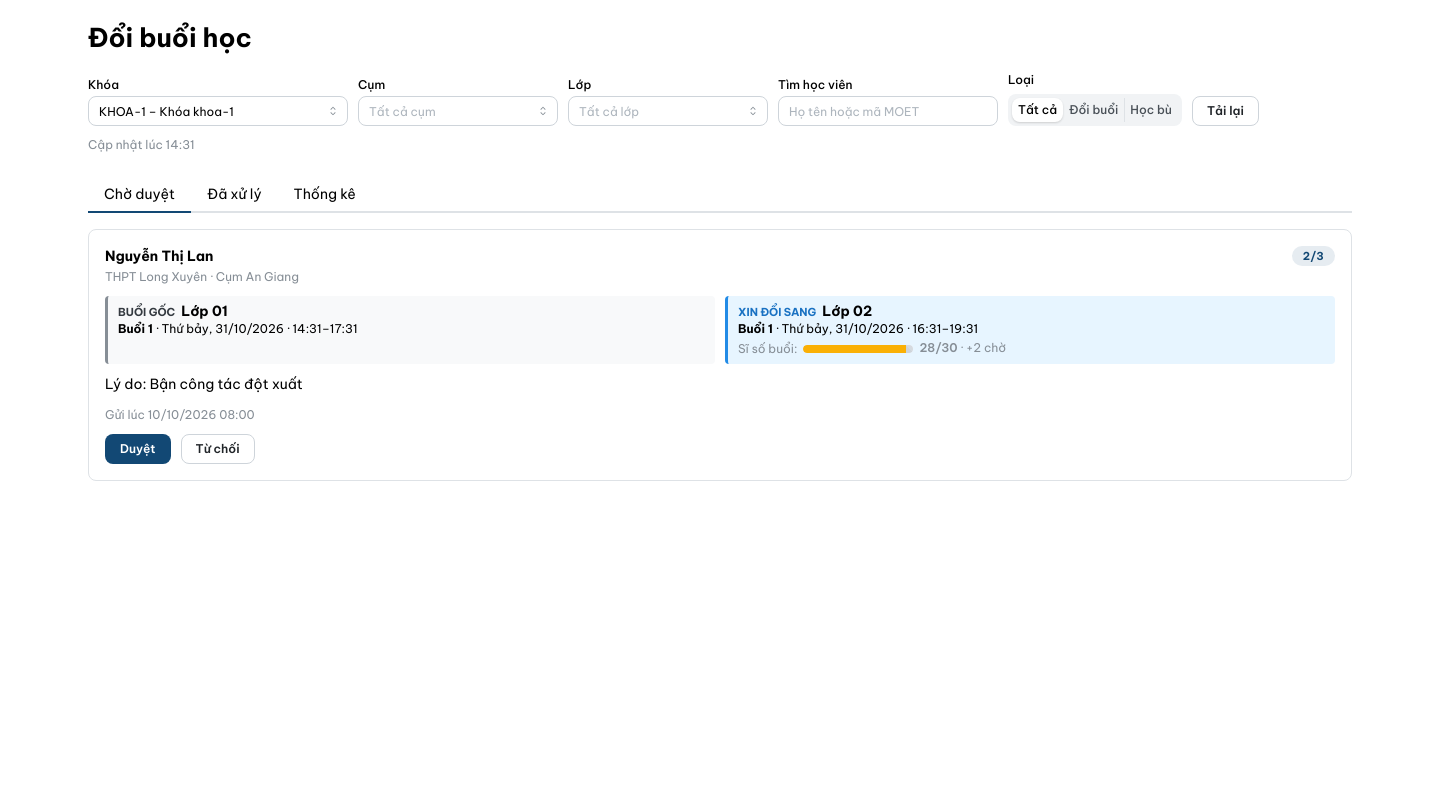
Test case: Màn duyệt đổi buổi › duyệt gửi lich_chot_id + ghi chú; cảnh báo hiện thành thông báo
Click the button "Duyệt" at (138, 449), box [105, 434, 171, 464]
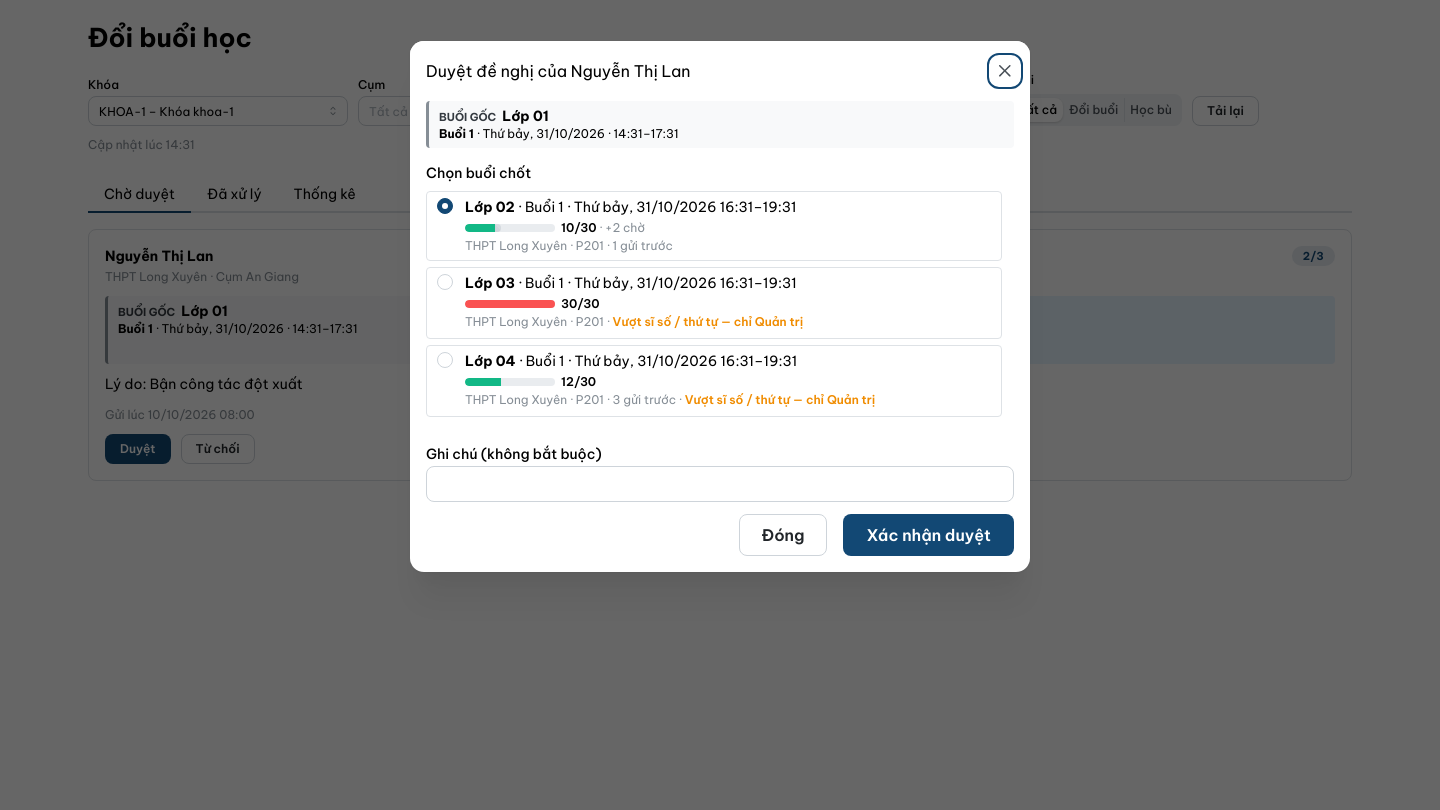
Check: the text "Chọn buổi chốt" is shown, box [426, 163, 531, 184]
Click the radio button labelled "Lớp 03" at (445, 281), box [437, 273, 453, 289]
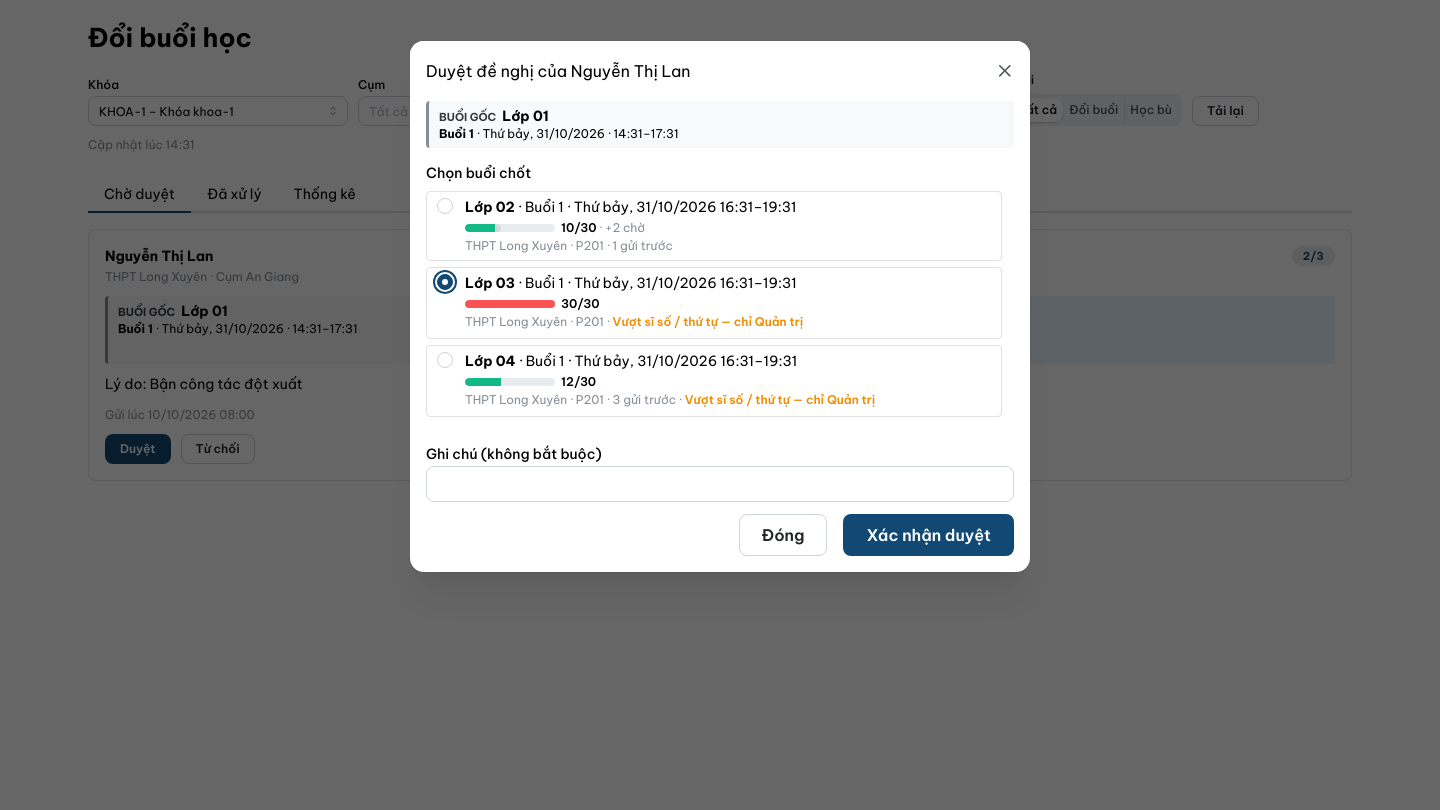
Type "Đồng ý ngoại lệ" into the text box labelled "Ghi chú (không bắt buộc)" at (720, 483), box [426, 465, 1014, 501]
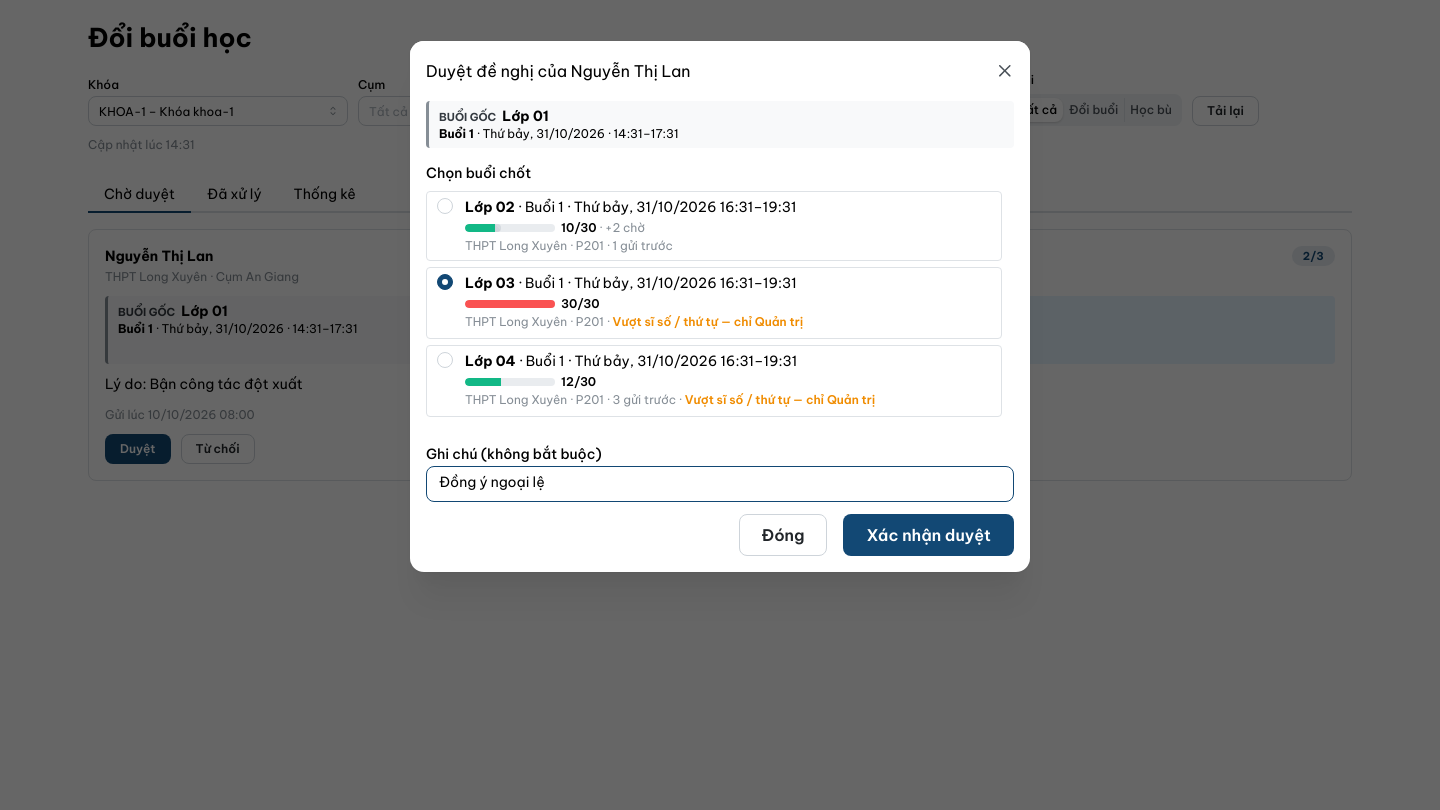
Click the button "Xác nhận duyệt" at (929, 534), box [843, 513, 1014, 555]
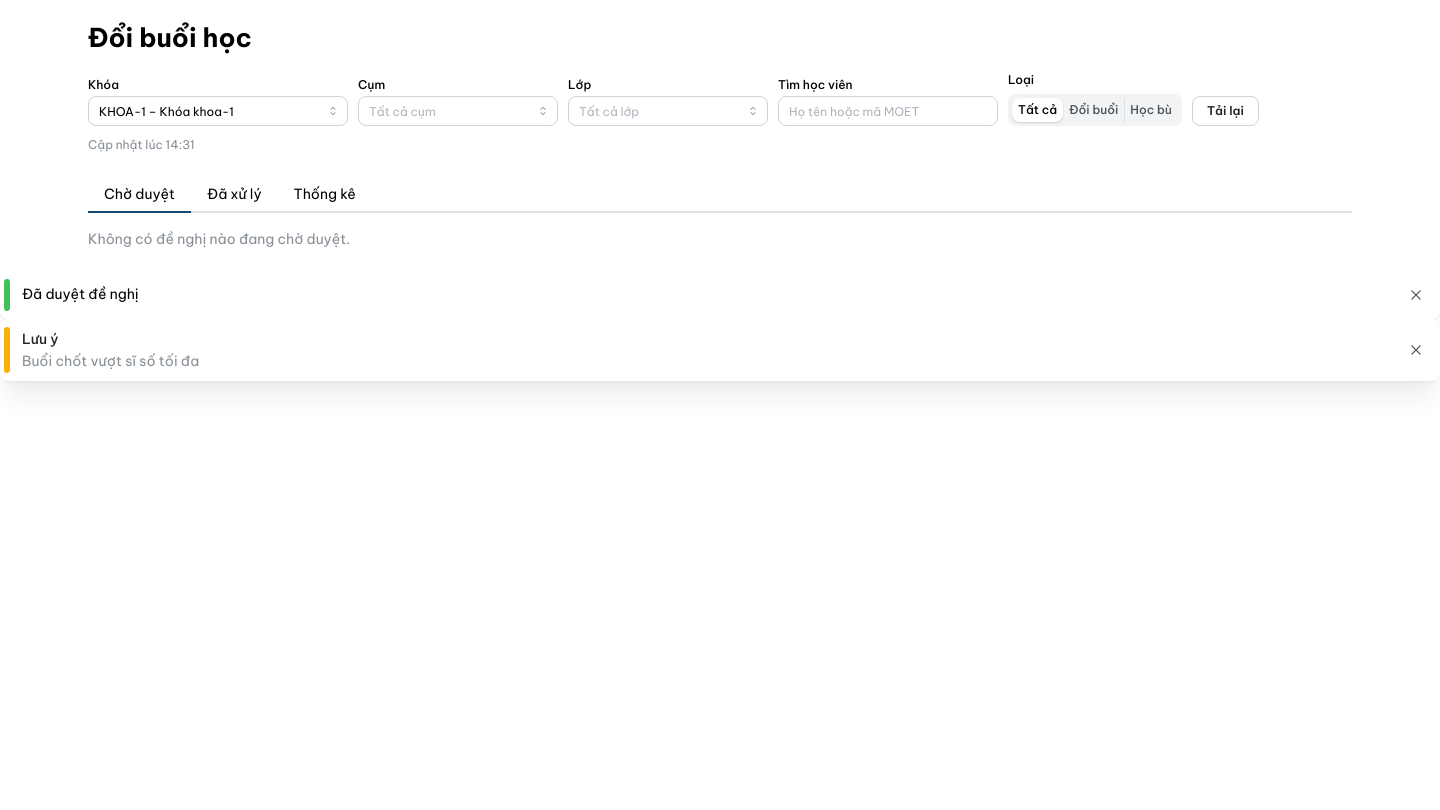
Check: the text "Buổi chốt vượt sĩ số tối đa" is shown, box [22, 352, 199, 370]
